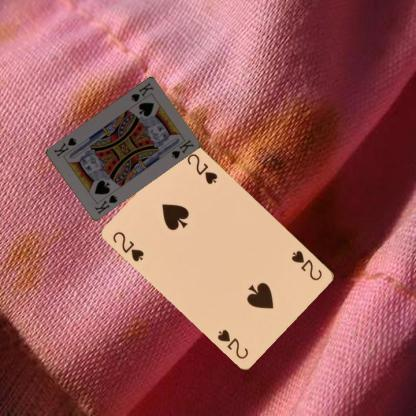2s: (110, 228, 146, 264), (288, 247, 324, 282)
Ks: (128, 80, 154, 103), (92, 192, 118, 215)
